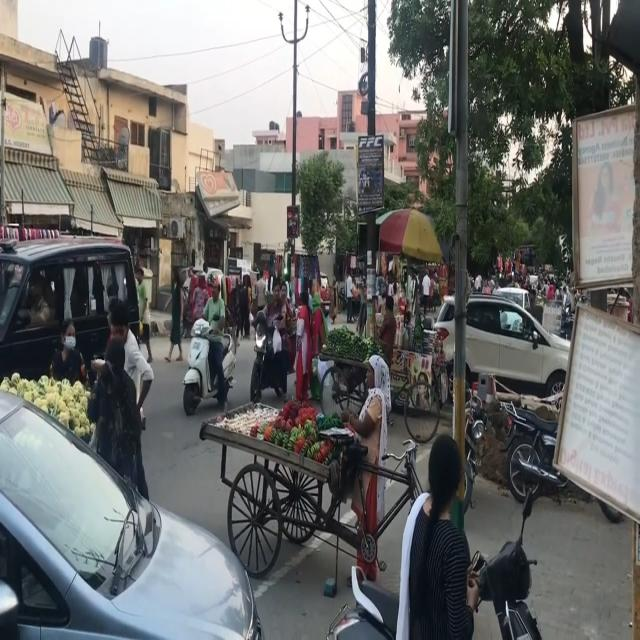Scooty: (172, 315, 236, 417)
